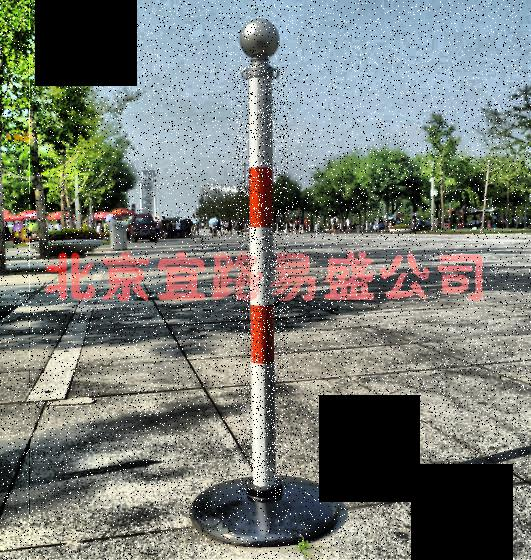bench: (236, 65, 289, 496)
